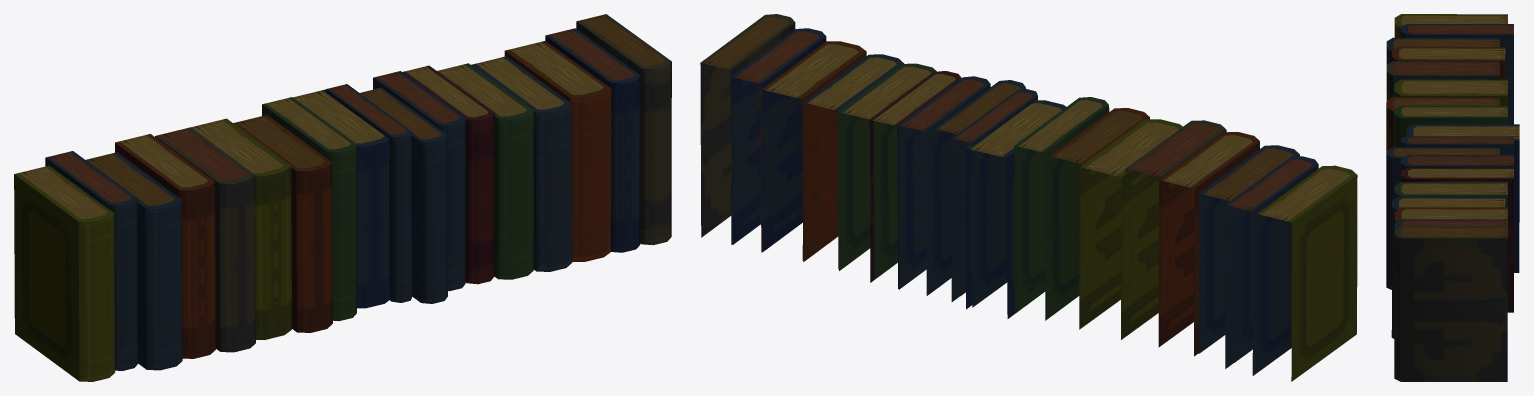
Rendered from BookGroup_Medium_3.gltf.
3 renders of one model, left to right at view 1: azimuth 30°, elevation 25°; view 2: azimuth 150°, elevation 25°; view 3: azimuth 270°, elevation 25°, orthographic. The views are drawn at different scales.
Parts seen in each view (by area): view 1: BookGroup_Medium_3; view 2: BookGroup_Medium_3; view 3: BookGroup_Medium_3.
Boxes of the visible parts, <box> form: BookGroup_Medium_3: <box>14,14,671,381</box>; BookGroup_Medium_3: <box>700,14,1357,381</box>; BookGroup_Medium_3: <box>1386,14,1519,381</box>.
Bounding box in the file's own units: 1.04 × 0.2949 × 0.2475.
Materials: 1 (1 with a texture image).
